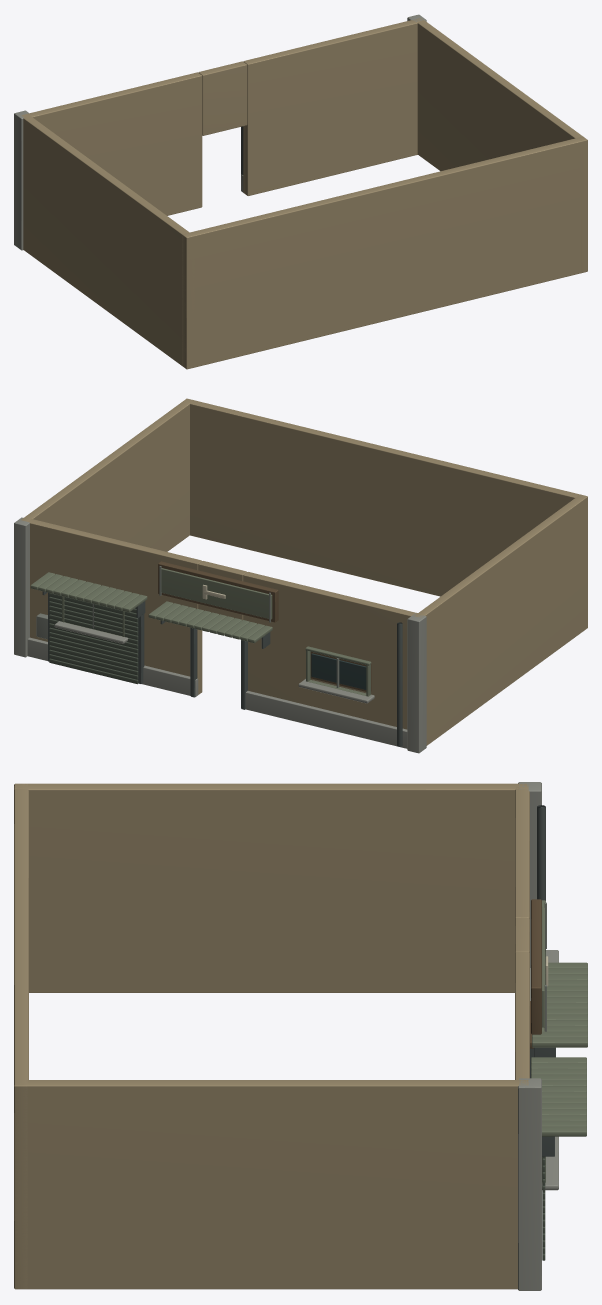
The model's file is Repair_Shell.fbx.
The picture shows the model from 3 angles, top to bottom: view 1: azimuth 30°, elevation 25°; view 2: azimuth 150°, elevation 25°; view 3: azimuth 270°, elevation 25°; orthographic projection. The views are drawn at different scales.
Parts seen in each view (by area): view 1: Repair_Shell; view 2: Repair_Shell; view 3: Repair_Shell.
Part boxes in pixels (bbox=[...]): Repair_Shell: bbox=[14, 14, 587, 369]; Repair_Shell: bbox=[14, 398, 587, 753]; Repair_Shell: bbox=[14, 782, 587, 1290].
Size of the model in its own units: 1444 by 450 by 1146.
